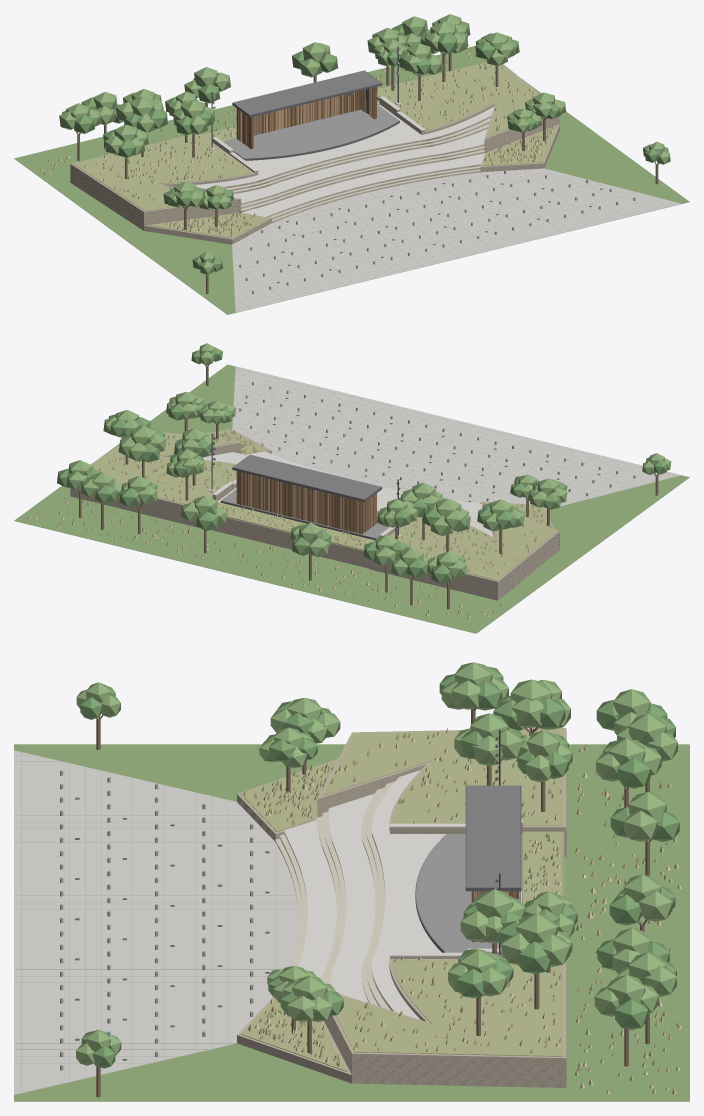
Rendered from clay-market-square-clay-v004.glb.
3 renders of one model, top to bottom at view 1: azimuth 30°, elevation 25°; view 2: azimuth 150°, elevation 25°; view 3: azimuth 270°, elevation 25°, orthographic. The views are drawn at different scales.
Parts seen in each view (by area): view 1: CLAY_PAVING, CLAY_MEADOW, CLAY_LAWN, CLAY_TREE2, CLAY_CONCRETE, CLAY_STONE, CLAY_TREE, CLAY_DECK, CLAY_TREAD, CLAY_MEADOW2, CLAY_ROOF, CLAY_STONE2 (+9 smaller); view 2: CLAY_PAVING, CLAY_LAWN, CLAY_TREE2, CLAY_MEADOW, CLAY_STONE, CLAY_TREE, CLAY_TIMBER3, CLAY_MEADOW2, CLAY_ROOF, CLAY_TIMBER, CLAY_CONCRETE, CLAY_BARK (+6 smaller); view 3: CLAY_PAVING, CLAY_LAWN, CLAY_MEADOW, CLAY_TREE2, CLAY_CONCRETE, CLAY_STONE, CLAY_TREE, CLAY_MEADOW2, CLAY_ROOF, CLAY_TREAD, CLAY_DECK, CLAY_JOINT (+5 smaller).
Boxes of the visible parts, <box> form: CLAY_PAVING: <box>232,168,681,312</box>; CLAY_MEADOW: <box>43,63,557,238</box>; CLAY_LAWN: <box>14,46,689,314</box>; CLAY_TREE2: <box>59,14,670,275</box>; CLAY_CONCRETE: <box>173,96,493,216</box>; CLAY_STONE: <box>70,62,559,244</box>; CLAY_TREE: <box>62,21,668,271</box>; CLAY_DECK: <box>223,104,398,158</box>; CLAY_TREAD: <box>225,118,490,221</box>; CLAY_MEADOW2: <box>40,48,552,236</box>; CLAY_ROOF: <box>233,70,380,114</box>; CLAY_STONE2: <box>204,118,488,221</box>; CLAY_PAVING: <box>232,366,681,509</box>; CLAY_LAWN: <box>14,364,689,633</box>; CLAY_TREE2: <box>66,343,671,578</box>; CLAY_MEADOW: <box>59,429,557,615</box>; CLAY_STONE: <box>70,429,559,600</box>; CLAY_TREE: <box>57,347,667,583</box>; CLAY_TIMBER3: <box>236,471,376,534</box>; CLAY_MEADOW2: <box>27,430,549,621</box>; CLAY_ROOF: <box>233,455,380,499</box>; CLAY_TIMBER: <box>241,472,374,534</box>; CLAY_CONCRETE: <box>203,451,494,537</box>; CLAY_BARK: <box>78,364,658,609</box>; CLAY_PAVING: <box>14,750,298,1094</box>; CLAY_LAWN: <box>14,744,689,1101</box>; CLAY_MEADOW: <box>241,728,679,1080</box>; CLAY_TREE2: <box>76,662,677,1065</box>; CLAY_CONCRETE: <box>284,770,522,1019</box>; CLAY_STONE: <box>237,728,566,1087</box>; CLAY_TREE: <box>80,666,679,1068</box>; CLAY_MEADOW2: <box>243,728,682,1094</box>; CLAY_ROOF: <box>466,786,520,887</box>; CLAY_TREAD: <box>274,781,395,1010</box>; CLAY_DECK: <box>416,834,520,952</box>; CLAY_JOINT: <box>15,755,297,1081</box>.
Bounding box in the file's own units: 82.1 × 13.15 × 64.
